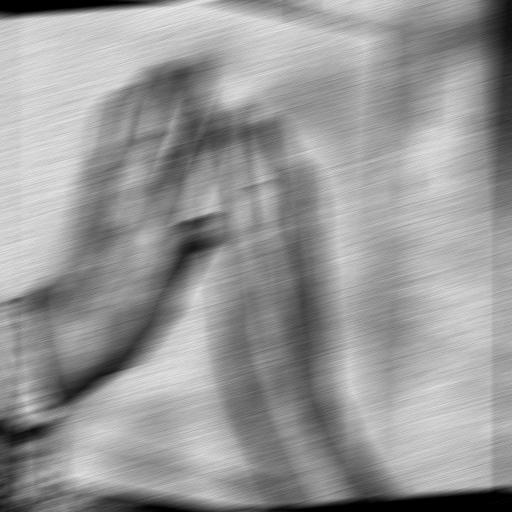bottom_right: (359, 492, 374, 498)
eiffel-tower: (64, 47, 353, 417)
top_right: (375, 30, 393, 43)
